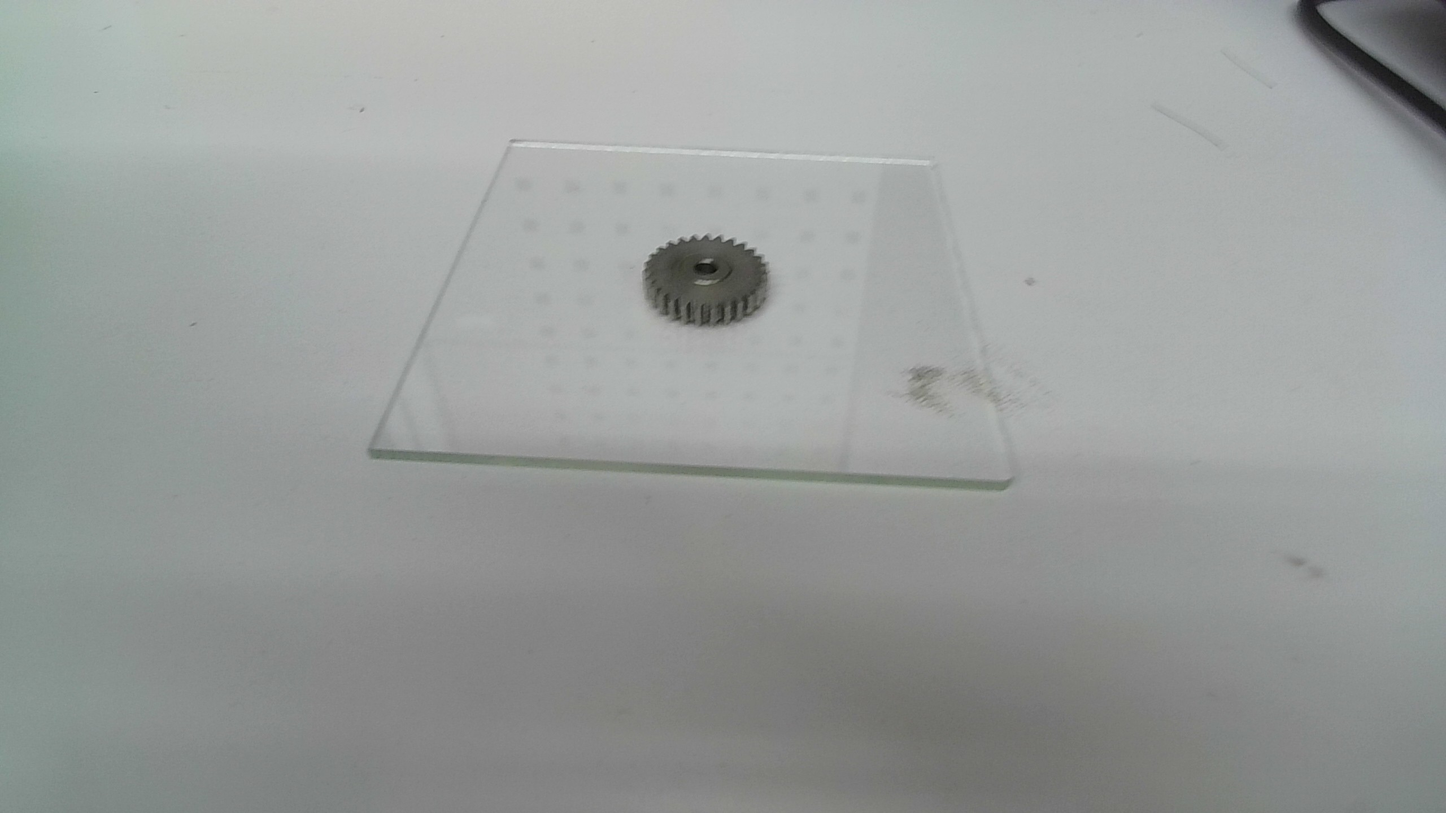gear: (641, 233, 771, 329)
